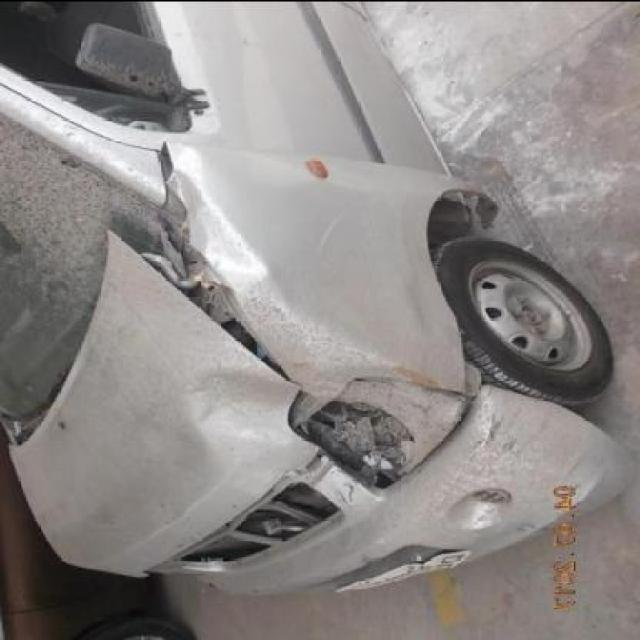damage: (108, 138, 301, 386), (288, 371, 473, 492), (188, 367, 324, 494)
